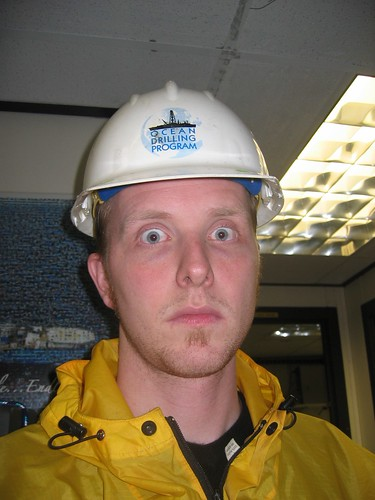person hardhat: (70, 81, 285, 376)
